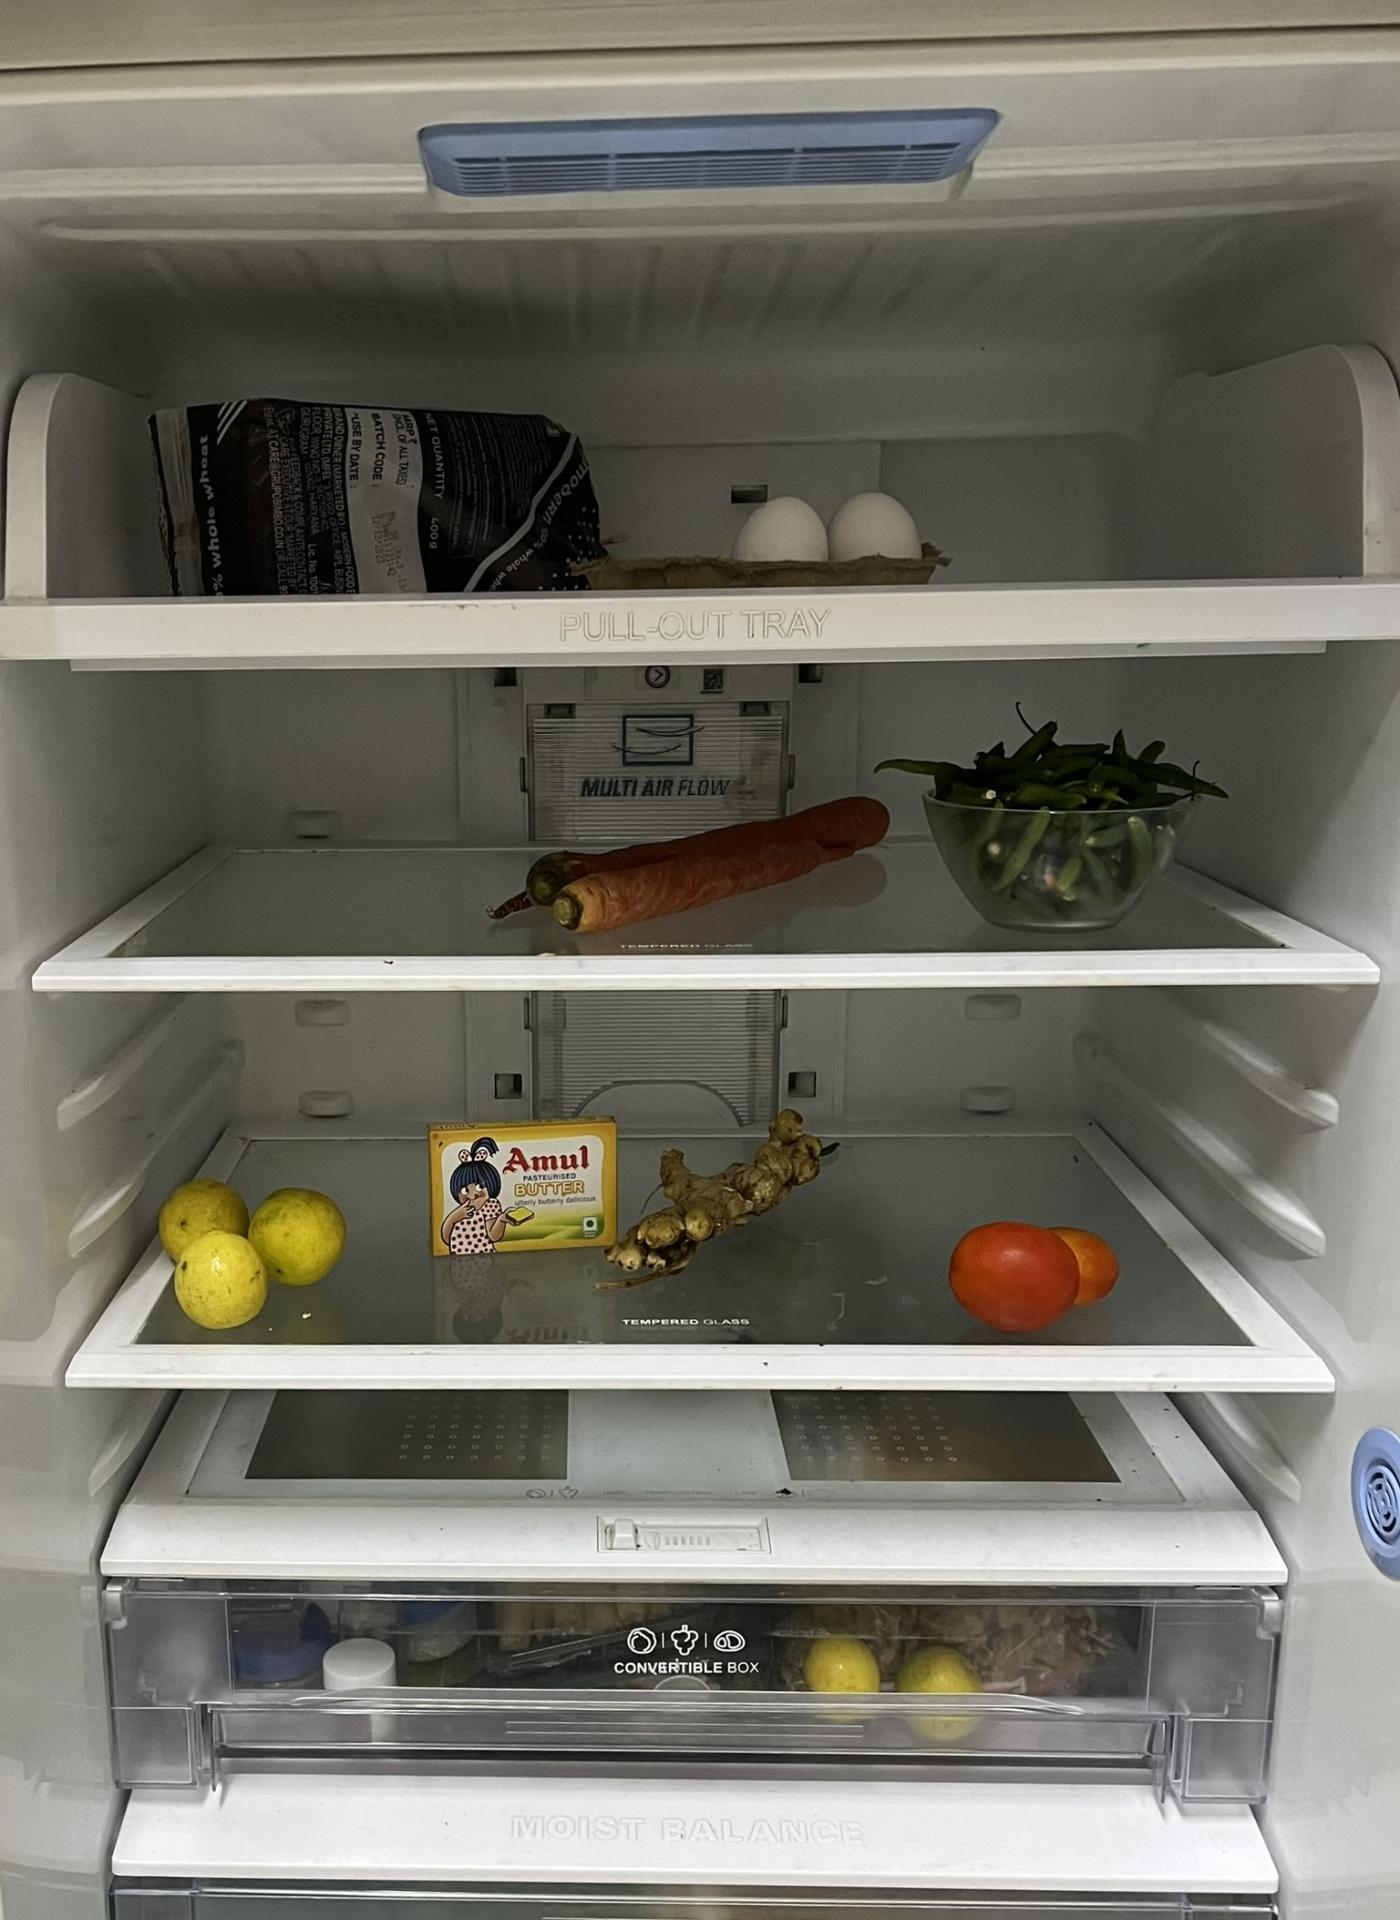bread: (157, 401, 596, 596)
butter: (428, 1120, 623, 1251)
carrots: (519, 802, 883, 932)
chillies: (892, 729, 1208, 939)
egg: (729, 486, 921, 558)
ginger: (613, 1111, 820, 1294)
lemon: (158, 1184, 347, 1325)
tomato: (944, 1225, 1118, 1324)
